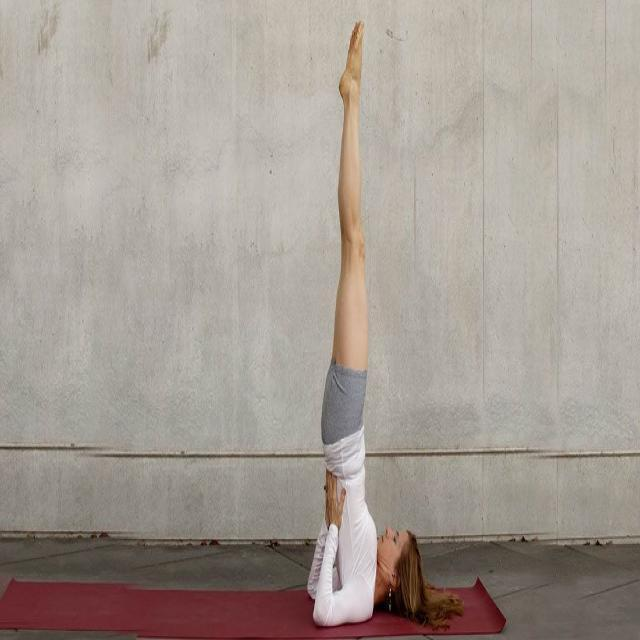yoga-pose downward: (307, 17, 423, 626)
